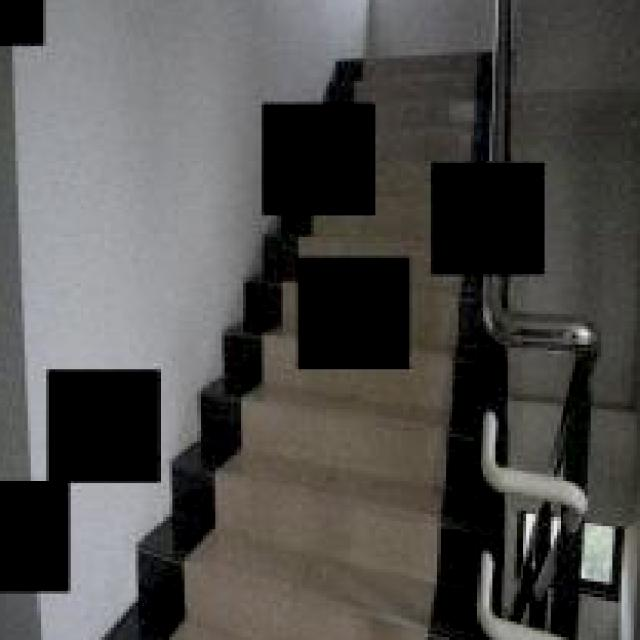upstair: (197, 385, 462, 640)
